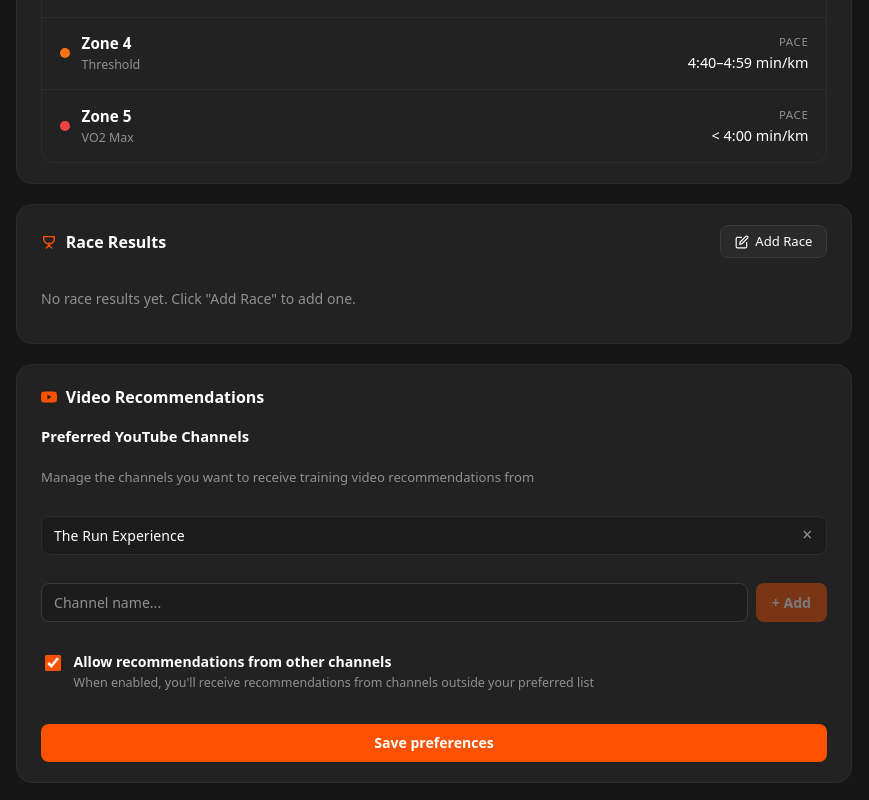
Test: ProfilePage › removes a channel from the list
(page scrolled)
Check: the text "The Run Experience" is shown, box [54,524,185,546]
Click the button named "Remove The Run Experience".
click(807, 535)  # box [801,526,814,544]
(page scrolled)
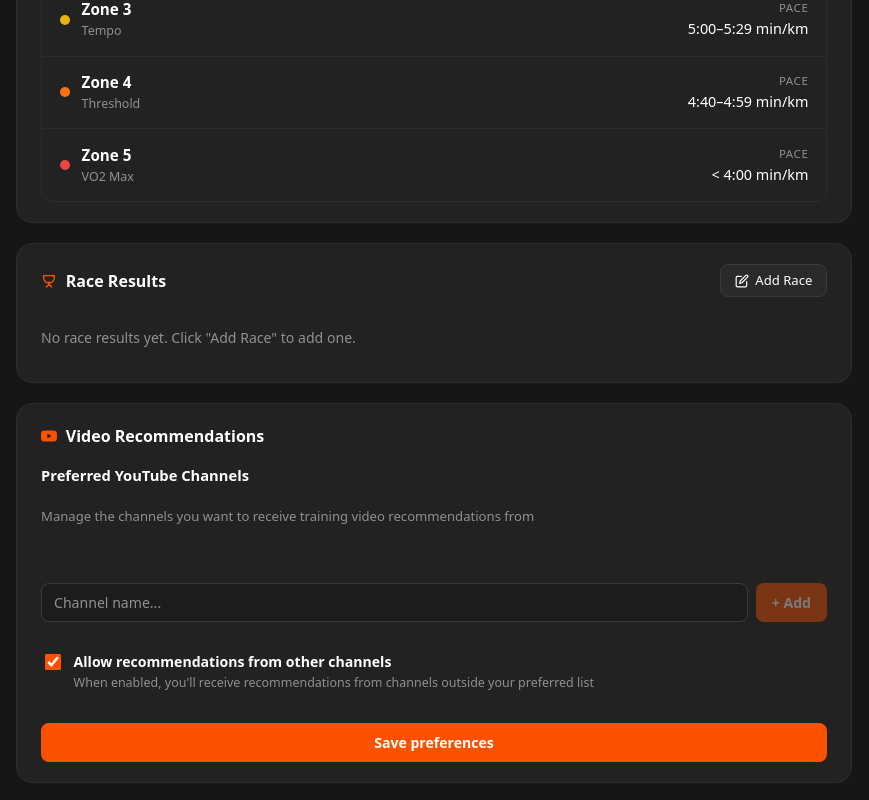
Check: the text "The Run Experience" is gone
